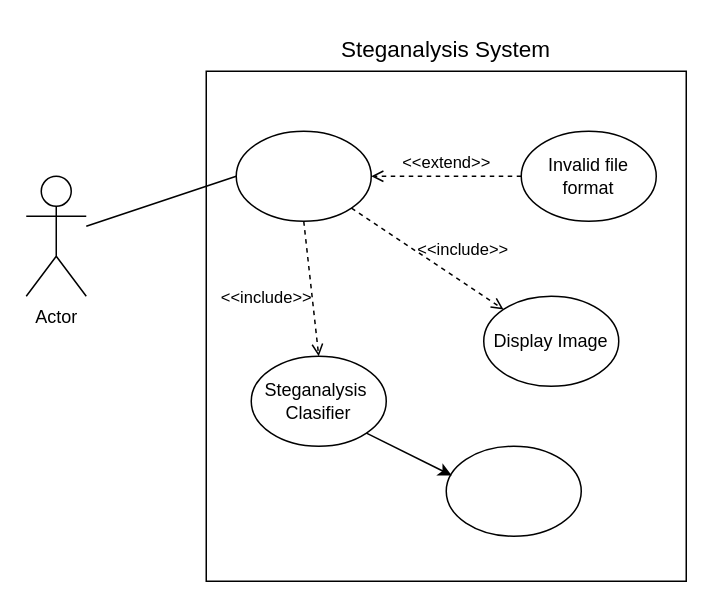
Image size: 713x608. Some labels were removed from this diagram. The centre of each missing label's shape, as x and y in pixels:
Display classifier output: the point at 513,490
Provide Image file: the point at 303,175
